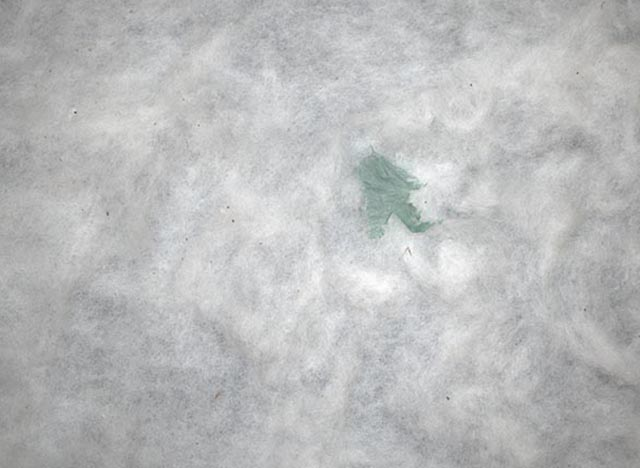plastic film: (357, 145, 440, 237)
